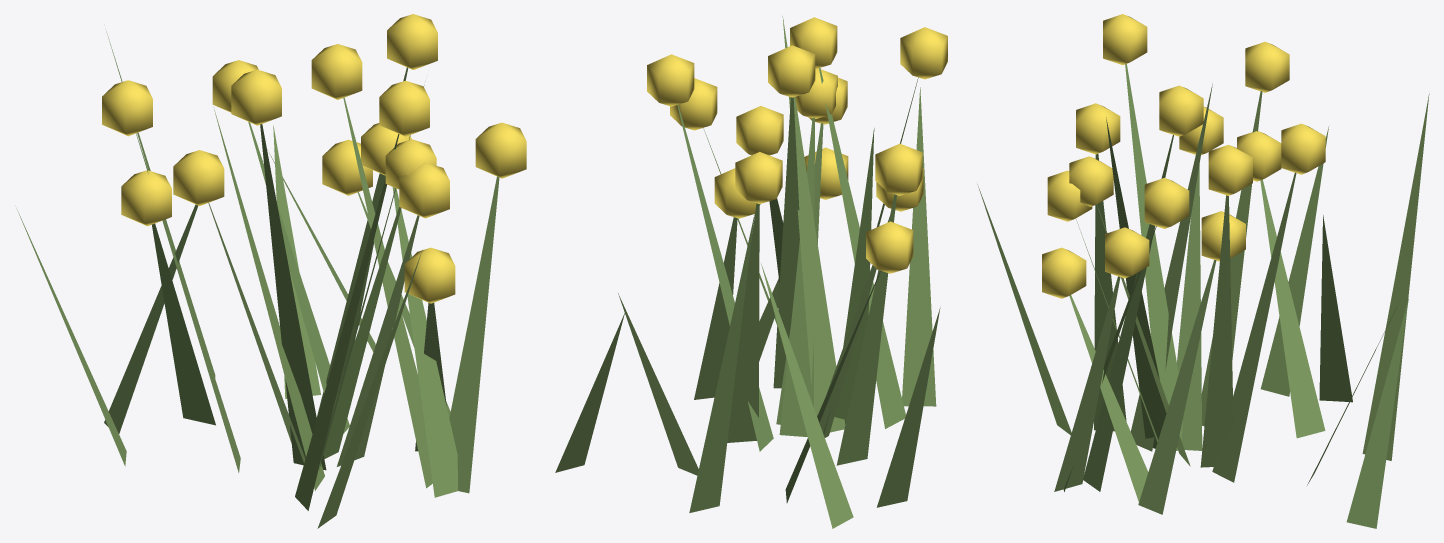
The model's file is SM_Flowers.fbx.
3 renders of one model, left to right at view 1: azimuth 30°, elevation 25°; view 2: azimuth 150°, elevation 25°; view 3: azimuth 270°, elevation 25°, orthographic. The views are drawn at different scales.
Parts seen in each view (by area): view 1: SM_Flowers; view 2: SM_Flowers; view 3: SM_Flowers.
Part boxes in pixels (left/top/right/bottom): SM_Flowers: left=16, top=14, right=526, bottom=528; SM_Flowers: left=555, top=16, right=947, bottom=528; SM_Flowers: left=977, top=14, right=1429, bottom=528.
Bounding box in the file's own units: 74.04 × 78.05 × 80.05.
